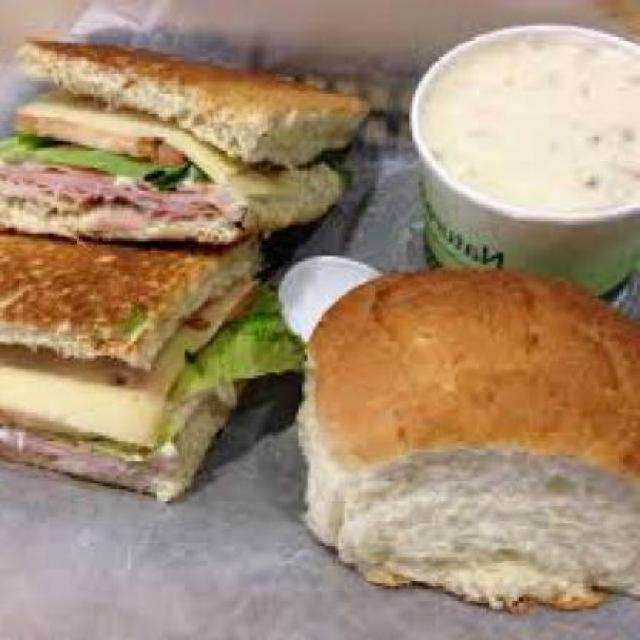club sandwich: (3, 45, 379, 498)
